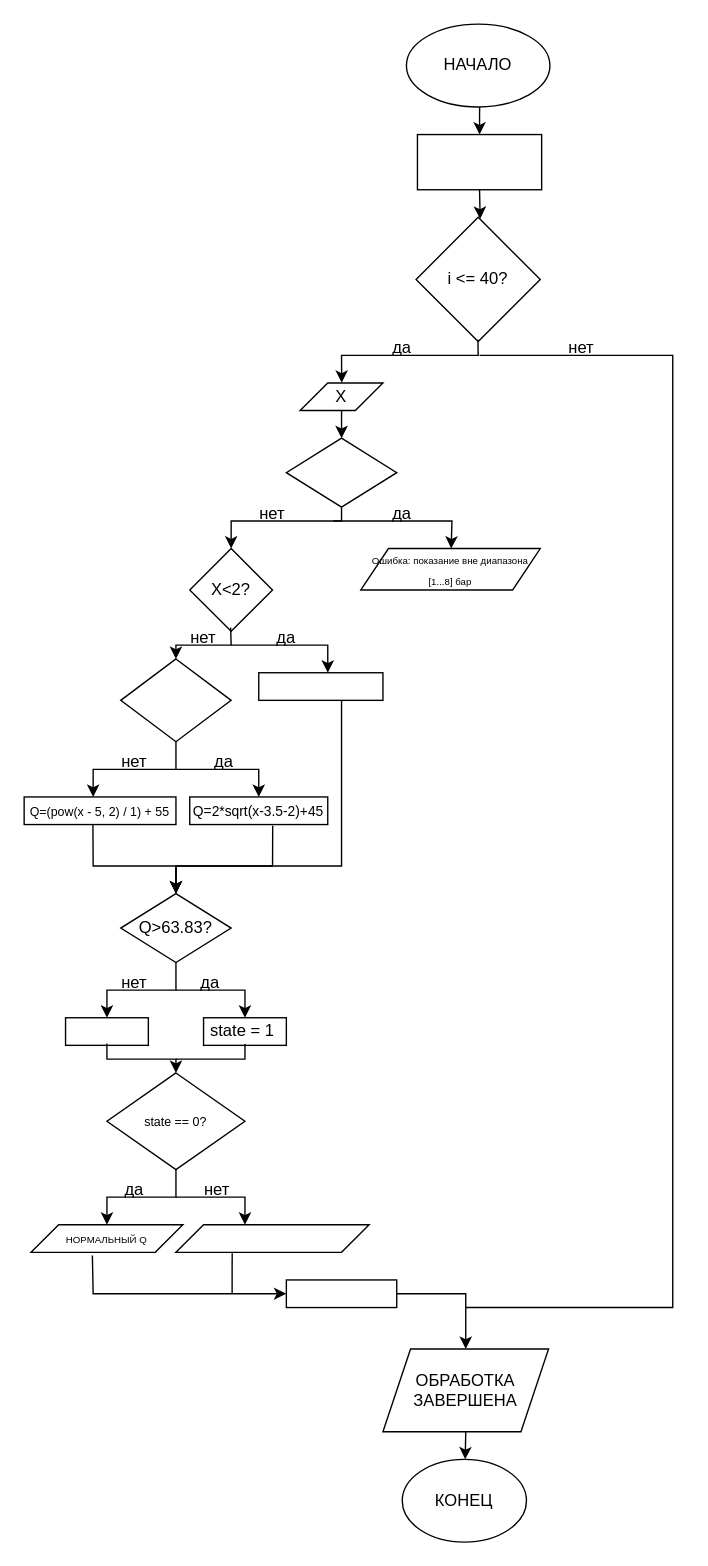
The diagram is 708 pixels wide and 1566 high, and some of its shapes have lost their labels. The centre of each missing label's shape, as x and y in pixels:
i = 1: point 479,161
i++: point 341,1293
Q= 3 *(x-2)+10: point 320,685
state = 0: point 106,1030
X<1 и X>8?: point 341,472
X>-2 и X<=5?: point 175,700
ПРЕВЫШЕНО ЗНАЧЕНИЕ Q: point 272,1237
